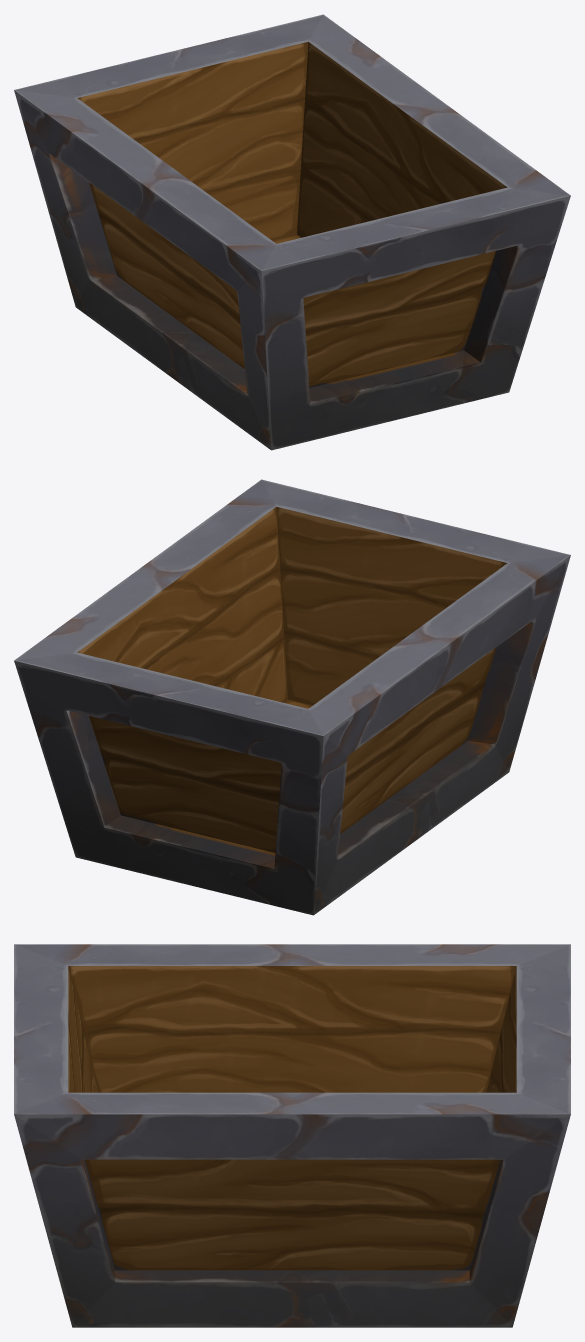
Rendered from Trolley.FBX.
3 renders of one model, top to bottom at view 1: azimuth 30°, elevation 25°; view 2: azimuth 150°, elevation 25°; view 3: azimuth 270°, elevation 25°, orthographic. The views are drawn at different scales.
Visible parts, largest first — view 1: Trolley; view 2: Trolley; view 3: Trolley.
Boxes of the visible parts, box(x1,y1,x2,y2) form: Trolley: box(14, 14, 570, 450); Trolley: box(14, 479, 570, 915); Trolley: box(14, 944, 570, 1327).
Size of the model in its own units: 760 by 486 by 1053.
